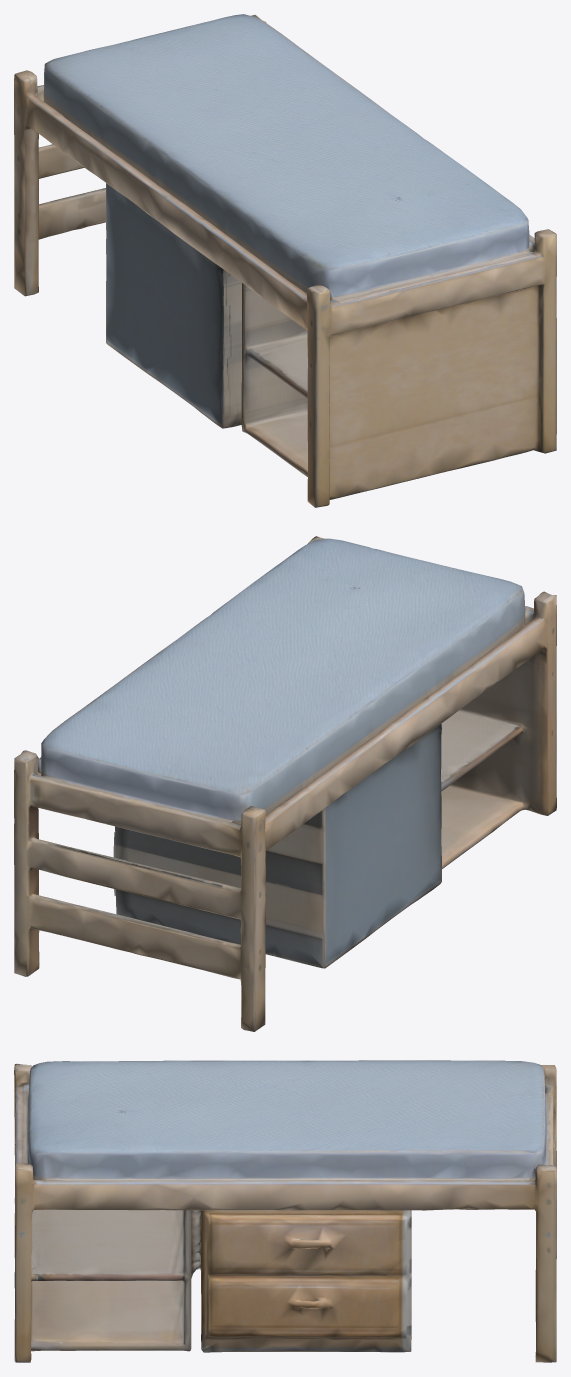
The model's file is Dorm_Bed_1111010941_texture.fbx.
3 views of the same model, one above another, from view 1: azimuth 30°, elevation 25°; view 2: azimuth 150°, elevation 25°; view 3: azimuth 270°, elevation 25° (orthographic). The views are drawn at different scales.
Parts seen in each view (by area): view 1: Mesh1.0; view 2: Mesh1.0; view 3: Mesh1.0.
Boxes of the visible parts, box(x1,y1,x2,y2) form: Mesh1.0: box(14, 14, 556, 507); Mesh1.0: box(14, 536, 556, 1031); Mesh1.0: box(14, 1060, 556, 1362).
Bounding box in the file's own units: 92.87 × 85.24 × 201.
1 material, 1 textured.
